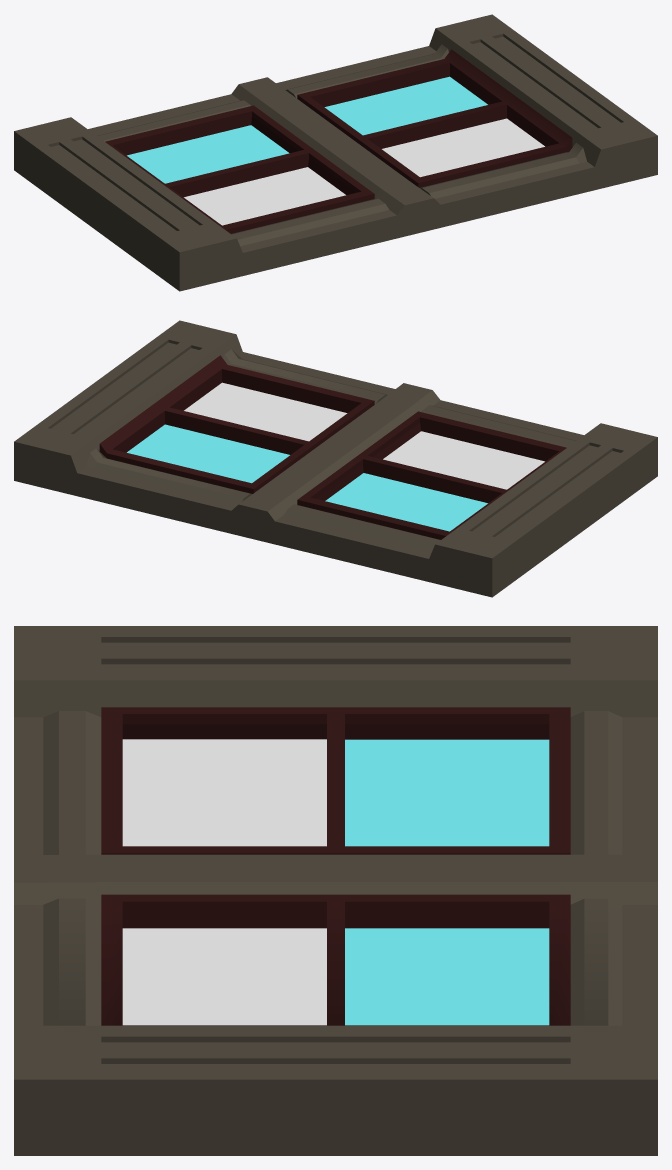
File: P_F_OLDType4.fbx
3 renders of one model, top to bottom at view 1: azimuth 30°, elevation 25°; view 2: azimuth 150°, elevation 25°; view 3: azimuth 270°, elevation 25°, orthographic. The views are drawn at different scales.
Visible parts, largest first — view 1: P_F_OLDType4; view 2: P_F_OLDType4; view 3: P_F_OLDType4.
Part boxes in pixels (x1,y1,x2,y2): P_F_OLDType4: (14, 14, 657, 291); P_F_OLDType4: (14, 320, 657, 597); P_F_OLDType4: (14, 626, 657, 1155).
Size of the model in its own units: 650 by 50.86 by 390.
